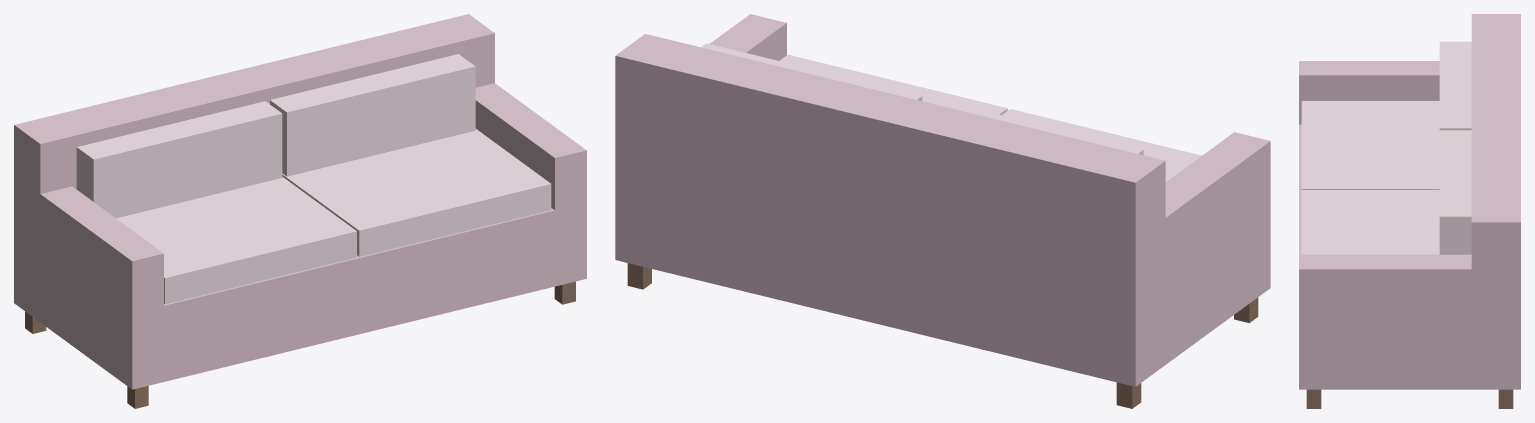
Rendered from demo-sofa.glb.
3 renders of one model, left to right at view 1: azimuth 30°, elevation 25°; view 2: azimuth 150°, elevation 25°; view 3: azimuth 270°, elevation 25°, orthographic. The views are drawn at different scales.
Parts seen in each view (by area): view 1: fabric, cushion, wood; view 2: fabric, cushion, wood; view 3: fabric, cushion, wood.
Boxes of the visible parts, x1,y1,x2,y2 form: fabric: (14, 14, 586, 389); cushion: (76, 54, 551, 304); wood: (25, 281, 575, 408); fabric: (615, 14, 1270, 386); cushion: (701, 43, 1201, 181); wood: (627, 263, 1258, 408); fabric: (1299, 14, 1520, 389); cushion: (1301, 41, 1471, 254); wood: (1306, 389, 1513, 408).
Bounding box in the file's own units: 2 × 0.85 × 0.9.
